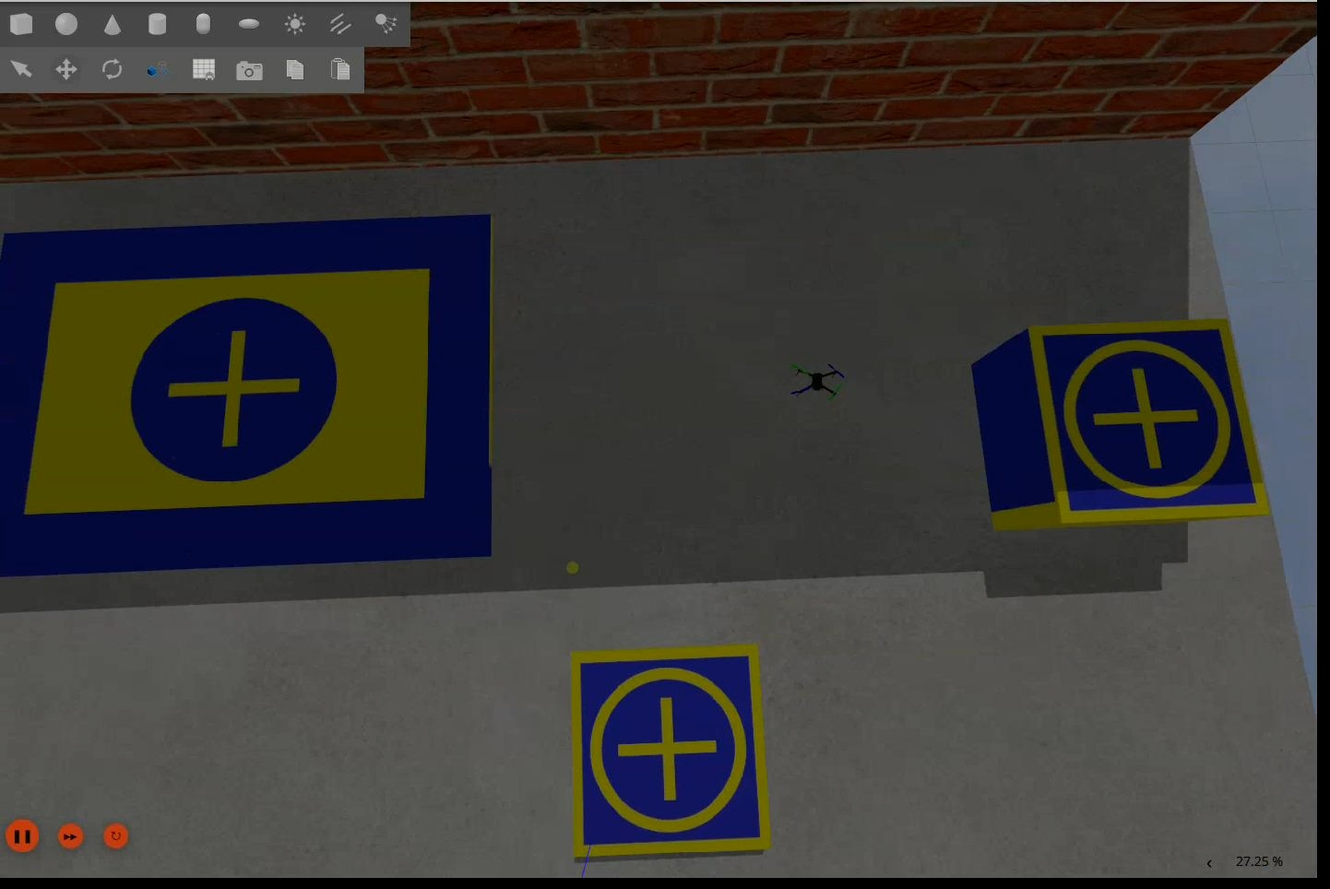large_base: (1, 213, 490, 573)
small_base: (1029, 323, 1275, 525), (572, 646, 771, 859)
